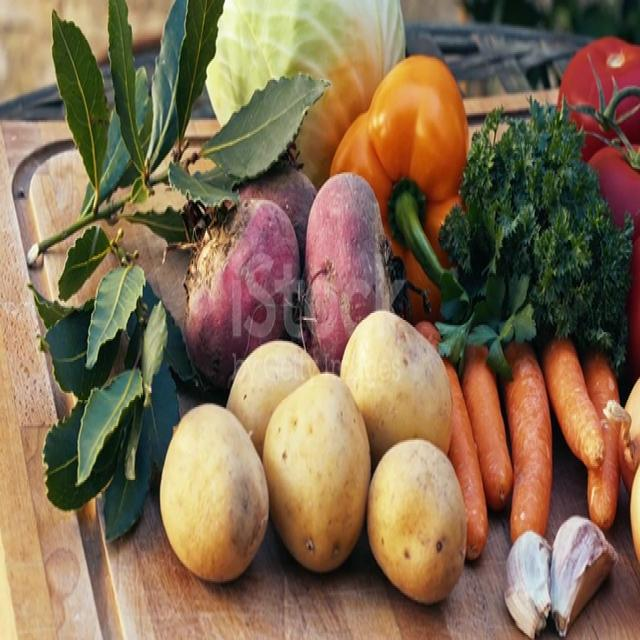carrot: (502, 341, 552, 540), (444, 361, 488, 560), (461, 346, 514, 510), (542, 339, 605, 468), (582, 352, 620, 530)
potato: (262, 374, 371, 572), (160, 404, 269, 582), (341, 311, 452, 468), (370, 439, 466, 603), (226, 341, 318, 455)
tomato: (571, 78, 640, 240), (558, 37, 639, 160), (615, 96, 640, 143)
